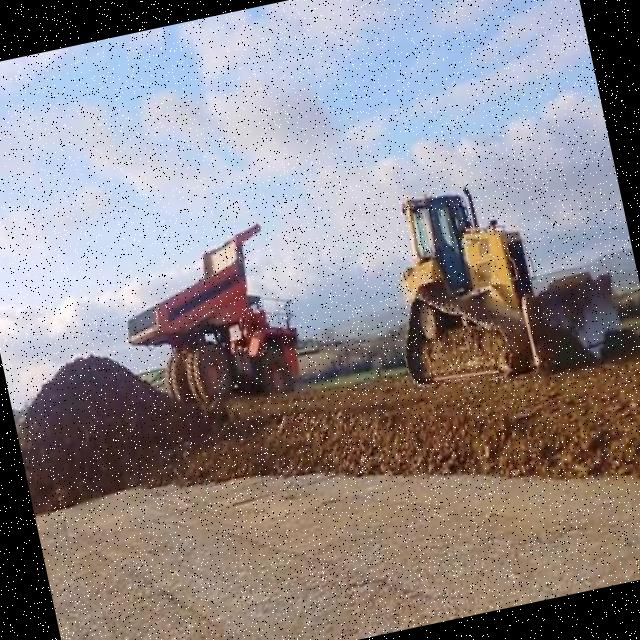Bulldozer: (372, 154, 632, 392)
Dump Truck: (110, 218, 307, 420)
